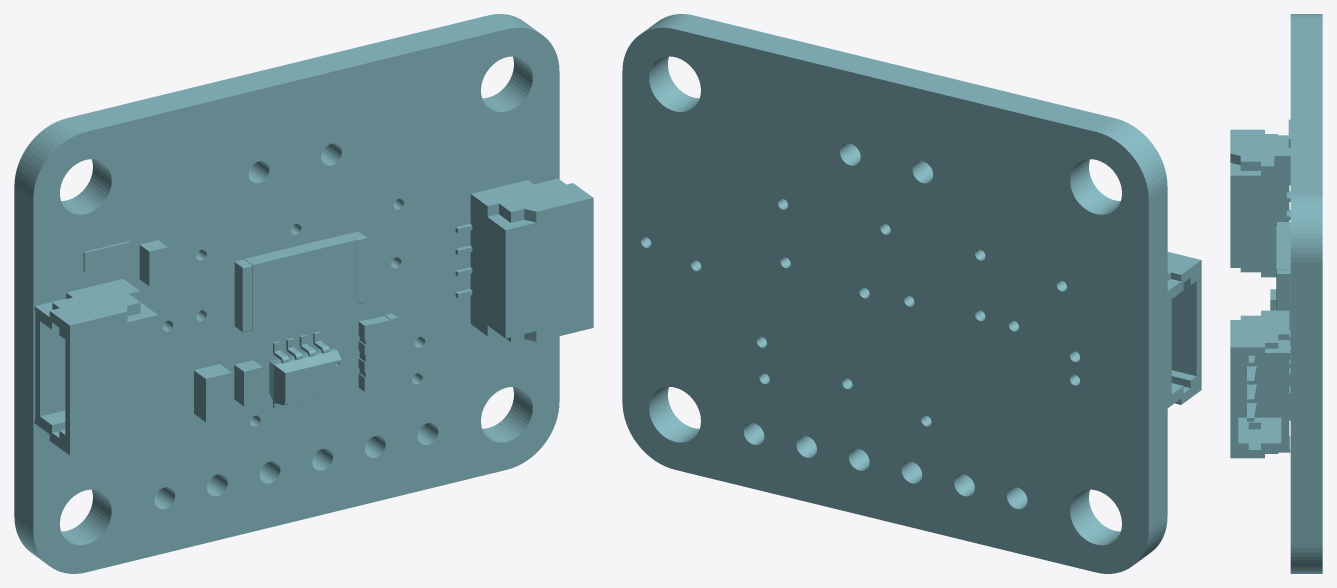
The model's file is adafruit-ina219-904.glb.
3 views of the same model, side by side, from view 1: azimuth 30°, elevation 25°; view 2: azimuth 150°, elevation 25°; view 3: azimuth 270°, elevation 25° (orthographic). The views are drawn at different scales.
Size of the model in its own units: 0.0254 by 0.0203 by 0.00453.
